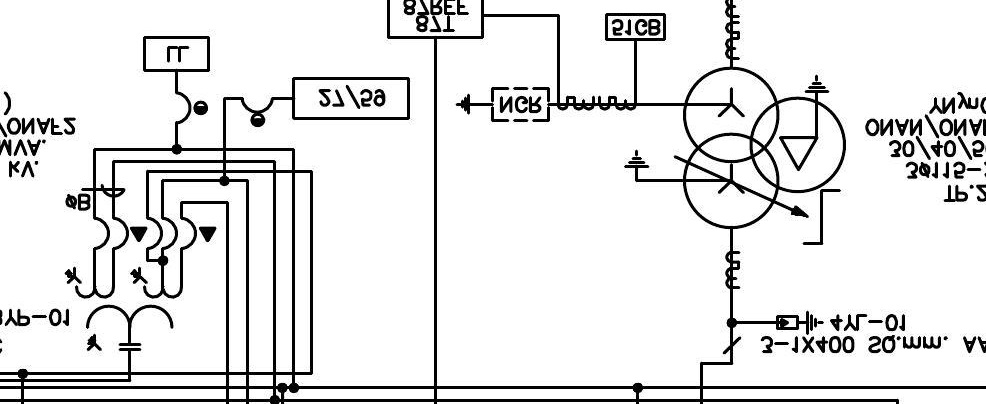11522_tx_ynyn0d1: (680, 66, 847, 230)
115_cvt_3p: (64, 266, 184, 351)
115_la: (776, 310, 825, 336)
LL: (143, 36, 210, 72)
NGR_future: (455, 86, 550, 123)
